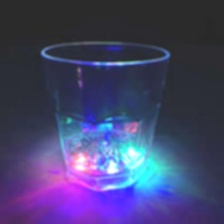glass: (33, 33, 173, 197)
